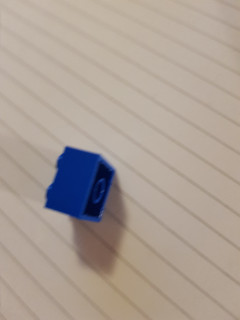2x2 blue: (42, 145, 116, 224)
